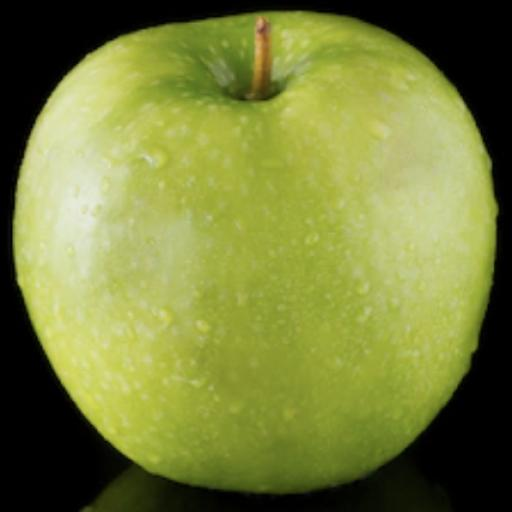apple: (15, 13, 496, 492), (82, 456, 452, 511)
